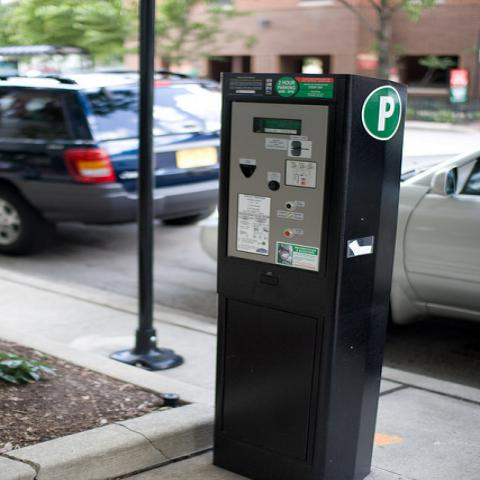car: (0, 67, 219, 253), (388, 146, 479, 334)
